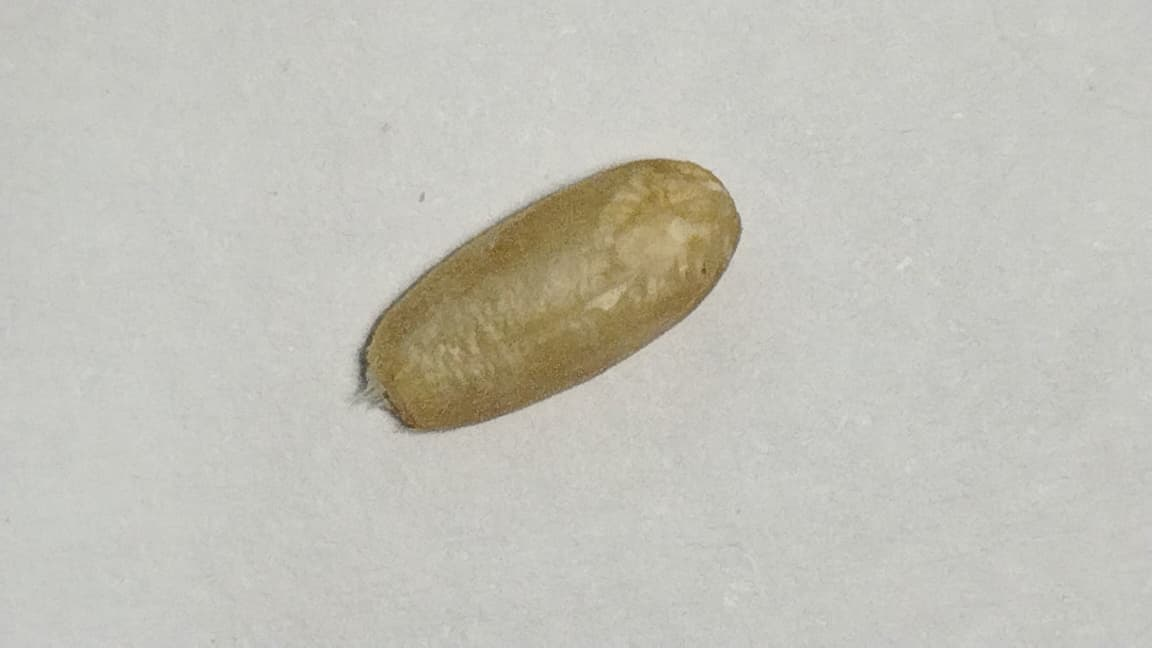healthy: (362, 159, 741, 429)
